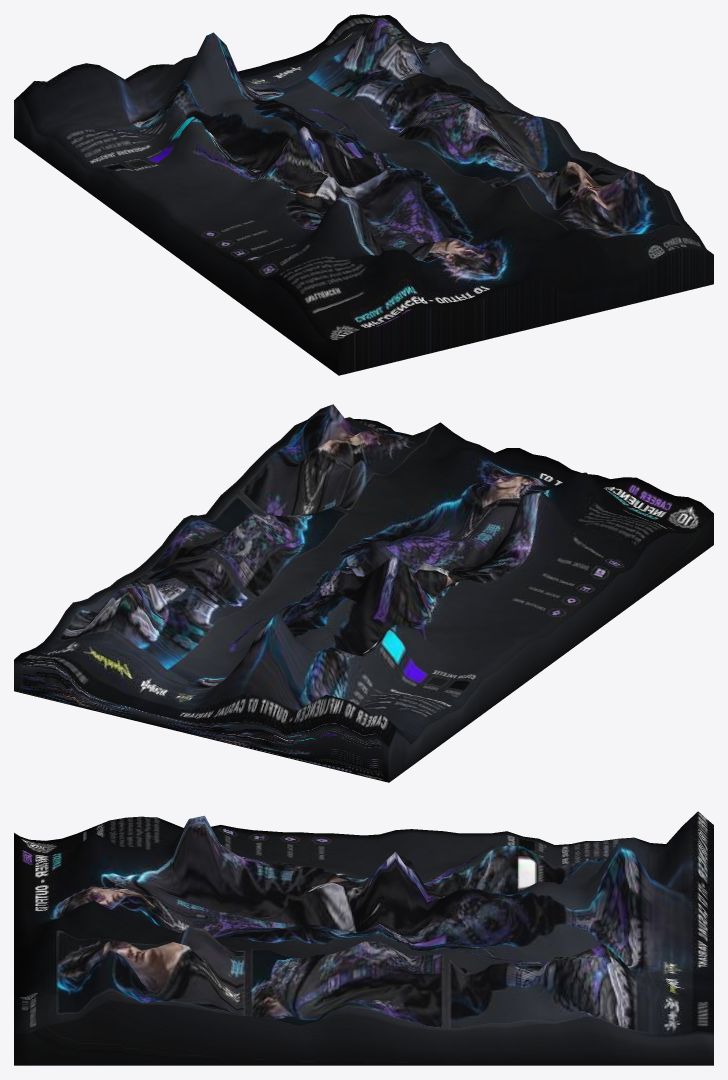
The model's file is CAREER_10_Outfit_07_Casual.glb.
3 renders of one model, top to bottom at view 1: azimuth 30°, elevation 25°; view 2: azimuth 150°, elevation 25°; view 3: azimuth 270°, elevation 25°, orthographic. The views are drawn at different scales.
Visible parts, largest first — view 1: CAREER_10_Outfit_07_Casual; view 2: CAREER_10_Outfit_07_Casual; view 3: CAREER_10_Outfit_07_Casual.
Part boxes in pixels (left/top/right/bottom): CAREER_10_Outfit_07_Casual: left=14, top=14, right=713, bottom=375; CAREER_10_Outfit_07_Casual: left=14, top=404, right=713, bottom=782; CAREER_10_Outfit_07_Casual: left=14, top=811, right=713, bottom=1065.
Size of the model in its own units: 2 by 0.51 by 3.
Materials: 1 (1 with a texture image).
